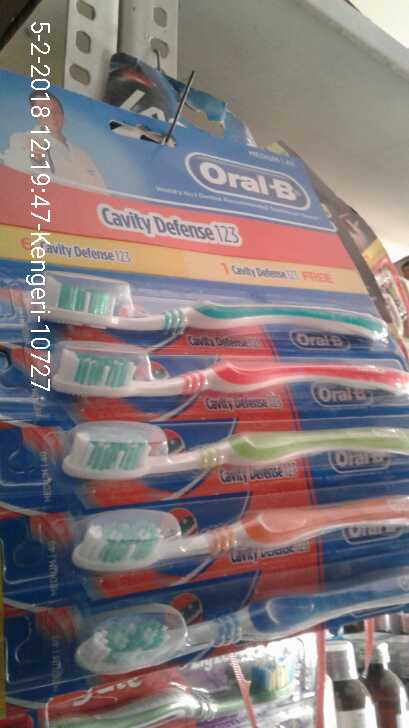oralb: (78, 568, 405, 679), (35, 273, 409, 354), (66, 488, 409, 570), (40, 353, 409, 415), (43, 418, 409, 480)
